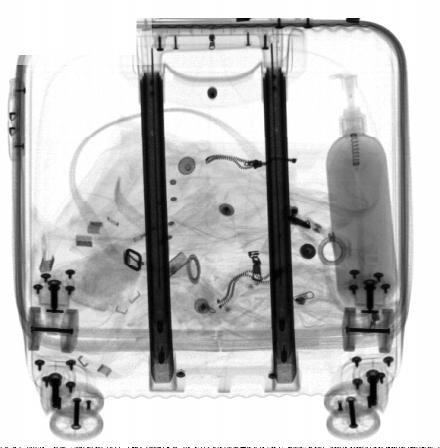Lighter: (260, 204, 301, 260)
